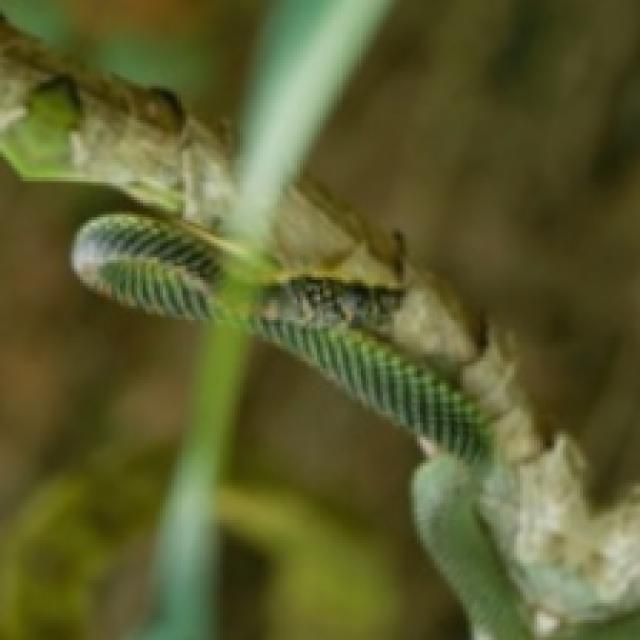paradise tree snake: (0, 17, 491, 460)
